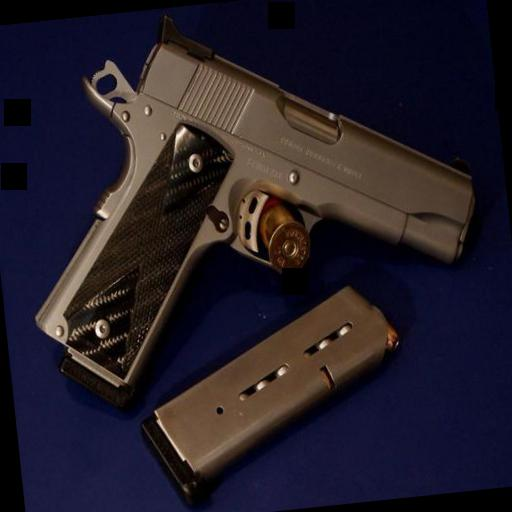Handgun: (0, 0, 499, 432)
